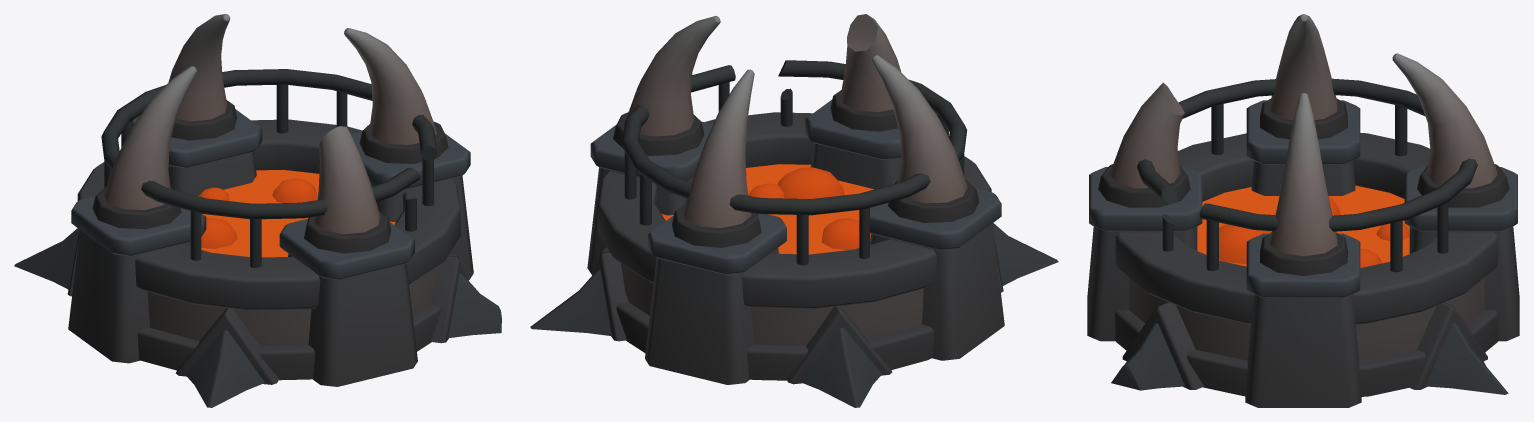
Rendered from inferno-well-small-001.glb.
3 renders of one model, left to right at view 1: azimuth 30°, elevation 25°; view 2: azimuth 150°, elevation 25°; view 3: azimuth 270°, elevation 25°, orthographic. The views are drawn at different scales.
Parts seen in each view (by area): view 1: WellSmall_001; view 2: WellSmall_001; view 3: WellSmall_001.
Part boxes in pixels (left/top/right/bottom): WellSmall_001: left=14, top=14, right=501, bottom=407; WellSmall_001: left=530, top=14, right=1058, bottom=407; WellSmall_001: left=1087, top=14, right=1519, bottom=407.
Bounding box in the file's own units: 5 × 3.36 × 5.
2 materials, 2 textured.
